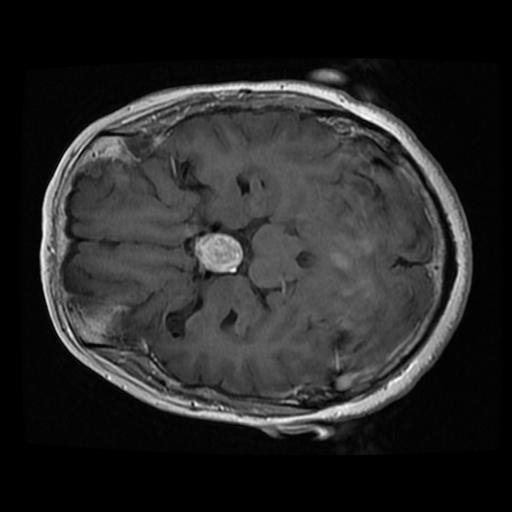pituitary tumour: (194, 236, 241, 273)
